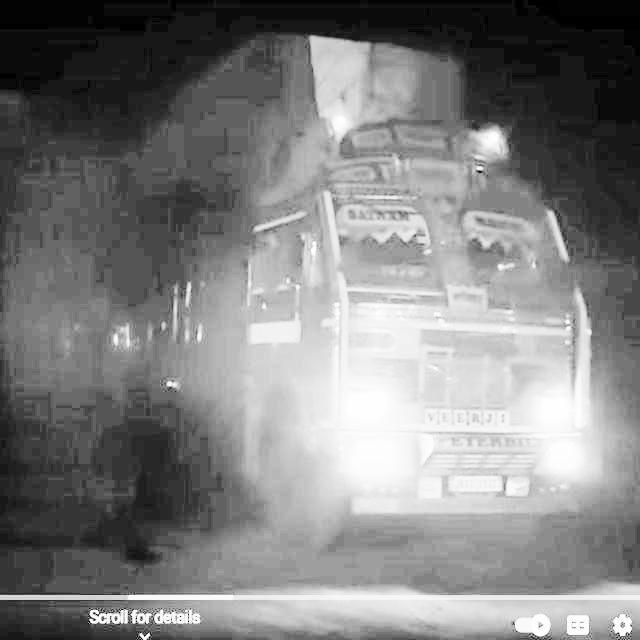Truck: (236, 115, 603, 552)
